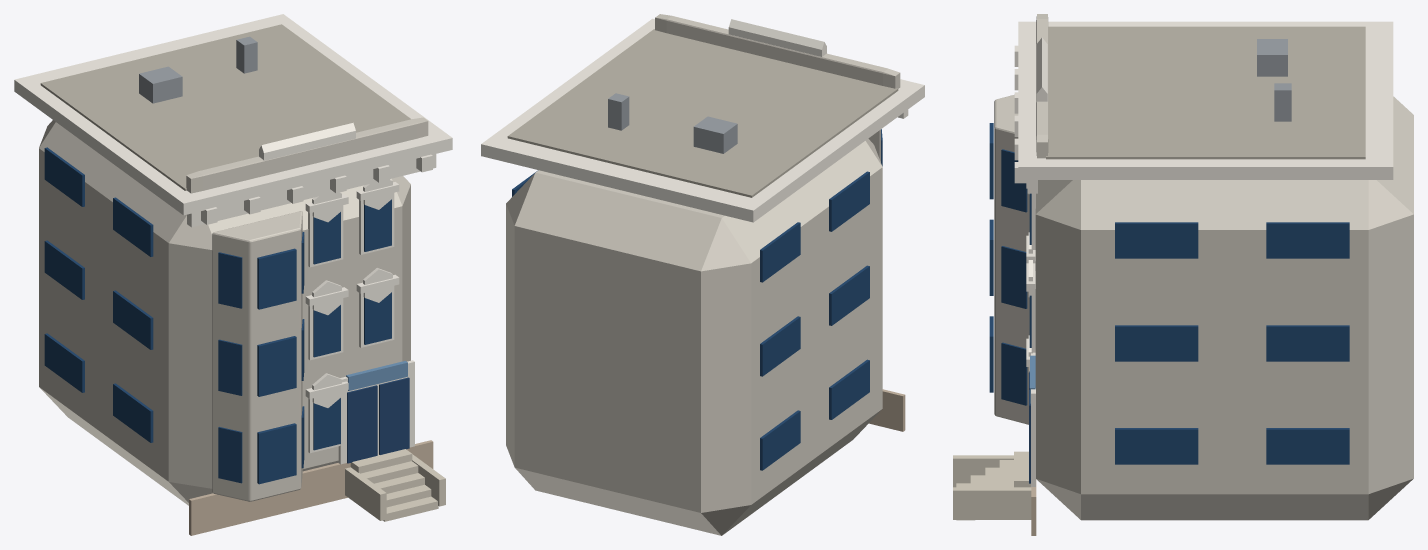
File: ital_w9_tall.glb
3 renders of one model, left to right at view 1: azimuth 30°, elevation 25°; view 2: azimuth 150°, elevation 25°; view 3: azimuth 270°, elevation 25°, orthographic. The views are drawn at different scales.
Visible parts, largest first — view 1: walls, roofslab, bay, corn, bsmt, fparapet, frieze, door, door.001, bw.002, bw, bw.001 (+32 smaller); view 2: walls, roofslab, corn, fparapet, sb, sb.010, sb.002, sb.008, sb.004, sb.006, hvac, bsmt (+3 smaller); view 3: walls, roofslab, corn, bay, sb.001, sb.003, sb.005, sb.007, sb.009, sb.011, cheek.001, bwa.001 (+8 smaller).
Boxes of the visible parts, bbox=[...] form: walls: bbox=[39, 120, 410, 505]; roofslab: bbox=[40, 24, 410, 190]; bay: bbox=[212, 211, 302, 501]; corn: bbox=[14, 14, 452, 215]; bsmt: bbox=[189, 440, 433, 535]; fparapet: bbox=[186, 117, 428, 193]; frieze: bbox=[187, 154, 436, 227]; door: bbox=[347, 385, 377, 463]; door.001: bbox=[379, 377, 409, 454]; bw.002: bbox=[257, 248, 296, 309]; bw: bbox=[257, 423, 296, 484]; bw.001: bbox=[257, 336, 296, 396]; walls: bbox=[506, 138, 882, 535]; roofslab: bbox=[507, 29, 898, 197]; corn: bbox=[481, 18, 924, 222]; fparapet: bbox=[655, 14, 900, 88]; sb: bbox=[829, 359, 869, 419]; sb.010: bbox=[760, 222, 800, 282]; sb.002: bbox=[760, 410, 800, 470]; sb.008: bbox=[829, 171, 869, 231]; sb.004: bbox=[829, 265, 869, 325]; sb.006: bbox=[760, 316, 800, 376]; hvac: bbox=[693, 116, 737, 153]; bsmt: bbox=[869, 389, 905, 431]; walls: bbox=[1035, 96, 1413, 520]; roofslab: bbox=[1046, 26, 1365, 159]; corn: bbox=[1018, 21, 1393, 179]; bay: bbox=[994, 94, 1029, 424]; sb.001: bbox=[1115, 428, 1198, 464]; sb.003: bbox=[1266, 428, 1349, 464]; sb.005: bbox=[1115, 325, 1198, 361]; sb.007: bbox=[1266, 325, 1349, 361]; sb.009: bbox=[1115, 222, 1198, 258]; sb.011: bbox=[1266, 222, 1349, 258]; cheek.001: bbox=[953, 487, 1031, 519]; bwa.001: bbox=[1001, 342, 1027, 405].
Bounding box in the file's own units: 10 × 13.15 × 13.4.
